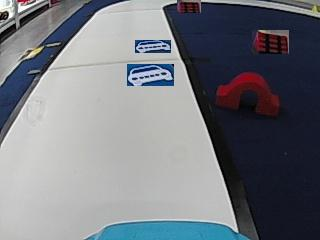bridge: (217, 71, 282, 114)
